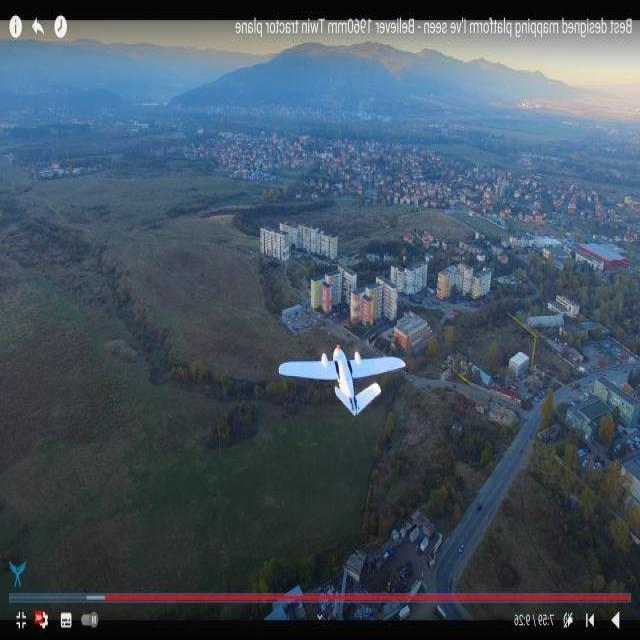Airplane: (269, 336, 414, 419)
